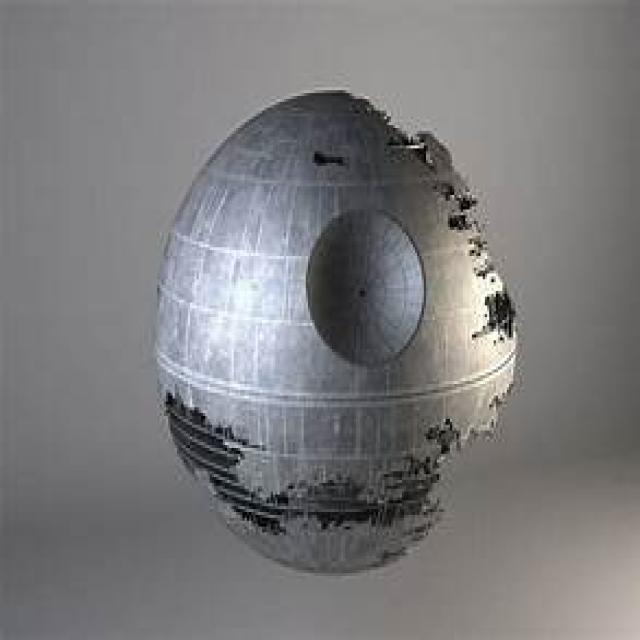deathStar: (152, 86, 524, 579)
